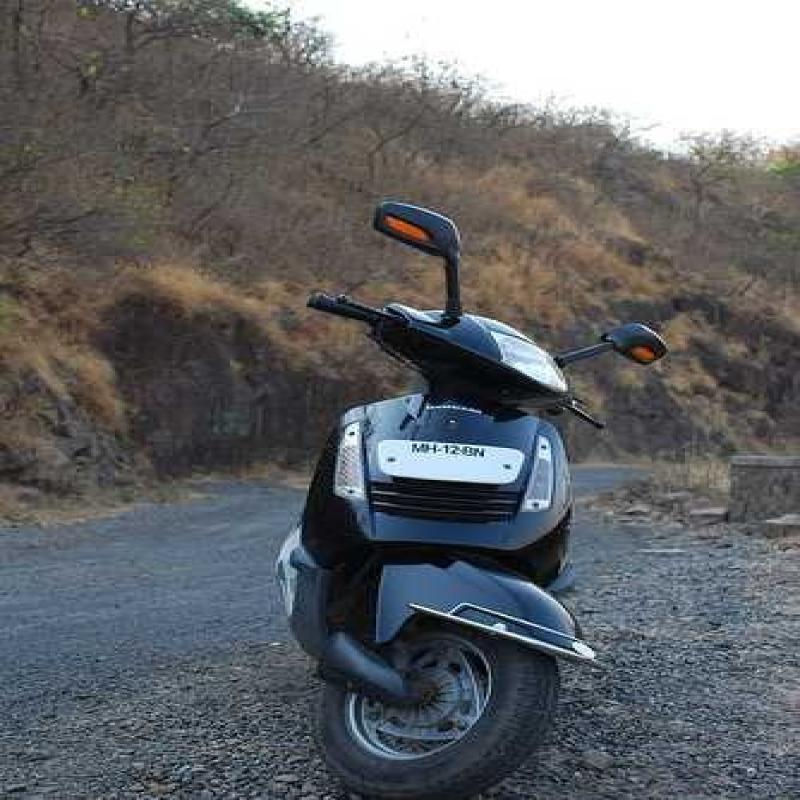bike: (280, 141, 800, 800)
